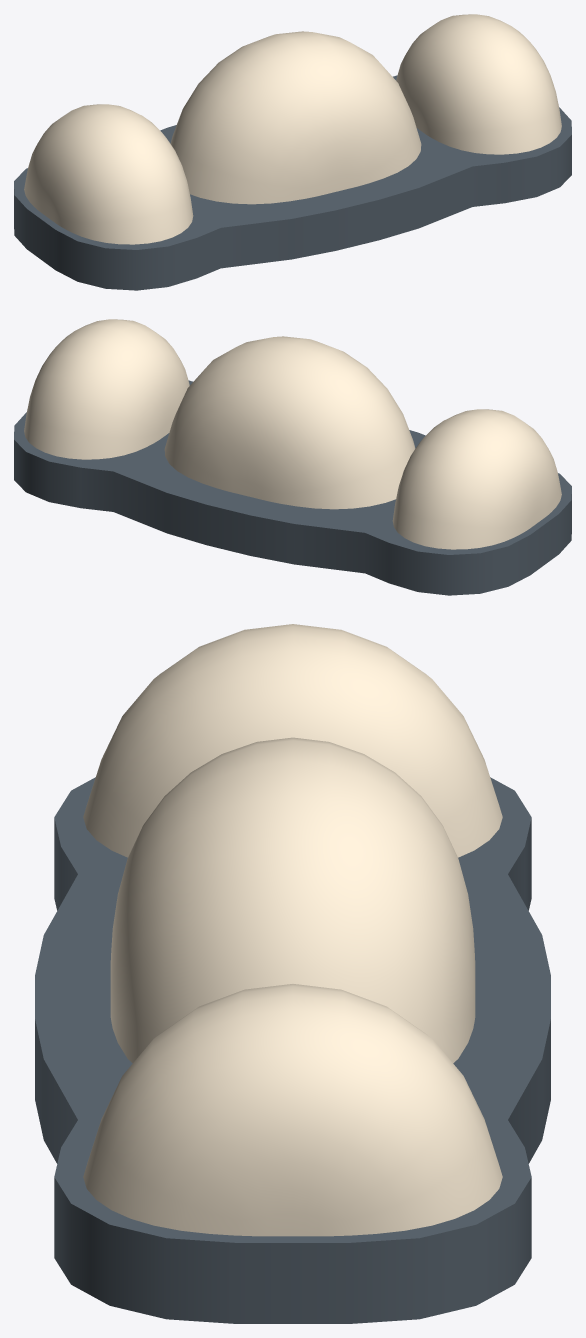
The model's file is Floor_Lights.fbx.
3 views of the same model, one above another, from view 1: azimuth 30°, elevation 25°; view 2: azimuth 150°, elevation 25°; view 3: azimuth 270°, elevation 25° (orthographic). The views are drawn at different scales.
Visible parts, largest first — view 1: Floor Lights; view 2: Floor Lights; view 3: Floor Lights.
Part boxes in pixels (<box>): Floor Lights: <box>14,14,571,290</box>; Floor Lights: <box>14,319,571,595</box>; Floor Lights: <box>35,624,550,1323</box>.
Size of the model in its own units: 65 by 19.56 by 28.84.
